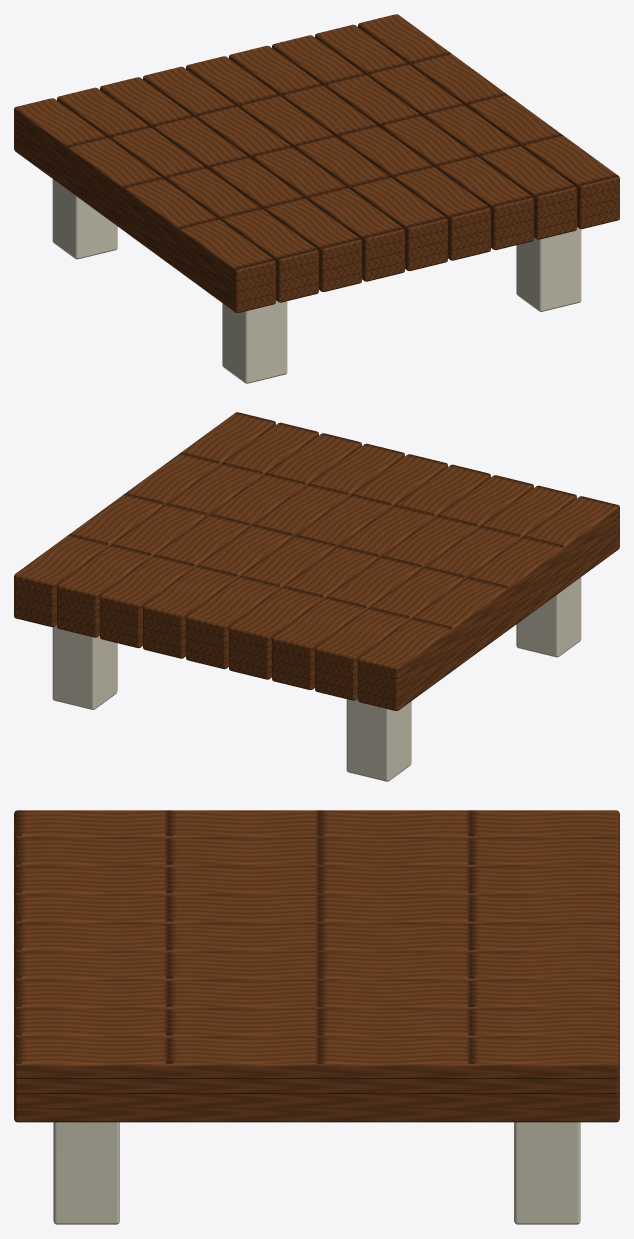
Rendered from modular-survival-base-builder-pier-foundation-37808cda__24133.glb.
3 renders of one model, top to bottom at view 1: azimuth 30°, elevation 25°; view 2: azimuth 150°, elevation 25°; view 3: azimuth 270°, elevation 25°, orthographic. The views are drawn at different scales.
Visible parts, largest first — view 1: pier-foundation; view 2: pier-foundation; view 3: pier-foundation.
Part boxes in pixels (x1=…): pier-foundation: x1=14, y1=14, x2=619, y2=383; pier-foundation: x1=14, y1=412, x2=619, y2=781; pier-foundation: x1=14, y1=810, x2=619, y2=1224.
Size of the model in its own units: 1.99 by 0.6499 by 2.
Materials: 2 (1 with a texture image).
